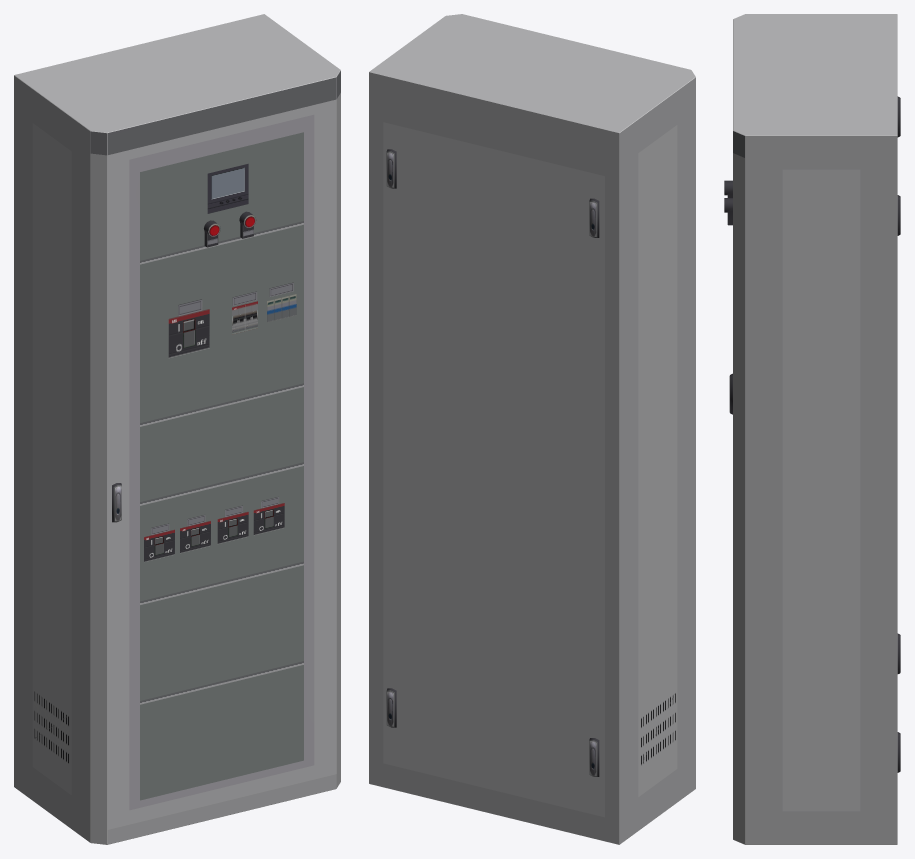
Rendered from powerCabinet.gltf.
3 views of the same model, side by side, from view 1: azimuth 30°, elevation 25°; view 2: azimuth 150°, elevation 25°; view 3: azimuth 270°, elevation 25° (orthographic).
Visible parts, largest first — view 1: Lo-BODY_01; view 2: Lo-BODY_01; view 3: Lo-BODY_01.
Boxes of the visible parts, x1,y1,x2,y2 form: Lo-BODY_01: (14, 14, 340, 844); Lo-BODY_01: (369, 14, 695, 844); Lo-BODY_01: (724, 14, 900, 844).
Size of the model in its own units: 0.7013 by 1.9 by 0.4288.
Materials: 1 (1 with a texture image).
